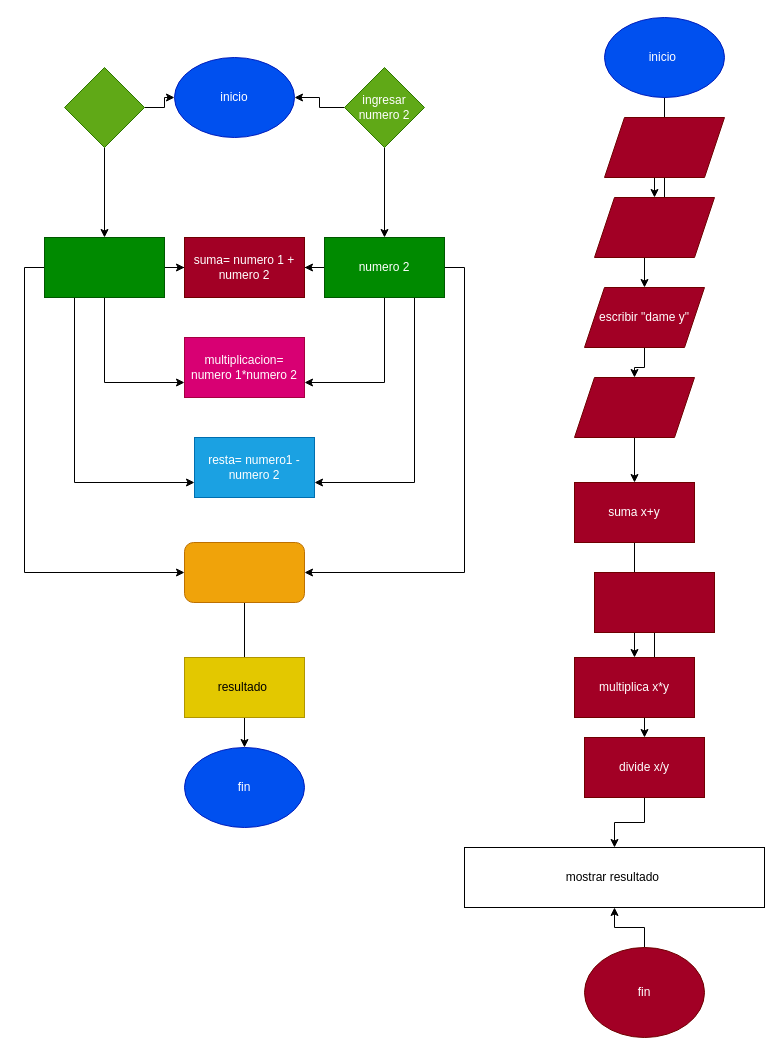
Some shapes in this 782 by 1055 pixel diagram are drawn without their labels. Here are the shapes that lost their labels. From the top down, the centre of each, then its label:
(x=104, y=107): ingresar numero 1
(x=664, y=147): escribir "dame x:"
(x=654, y=227): leer x
(x=104, y=267): numero 1
(x=634, y=407): leer y
(x=244, y=572): division= numero 1 / numero 2
(x=654, y=602): resta x-y
